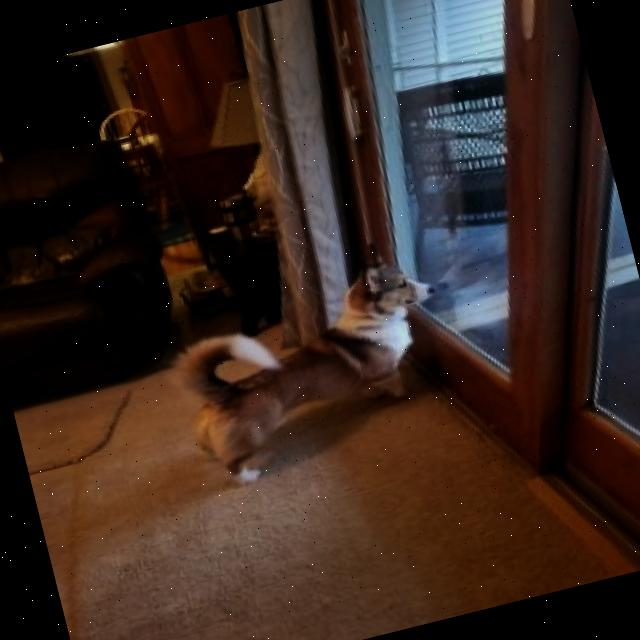corgi_dog: (318, 230, 452, 346)
